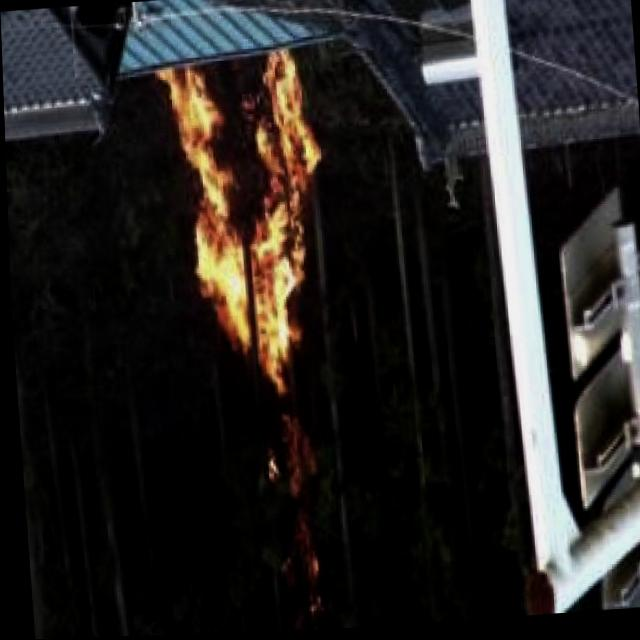Fire: (161, 48, 340, 402)
